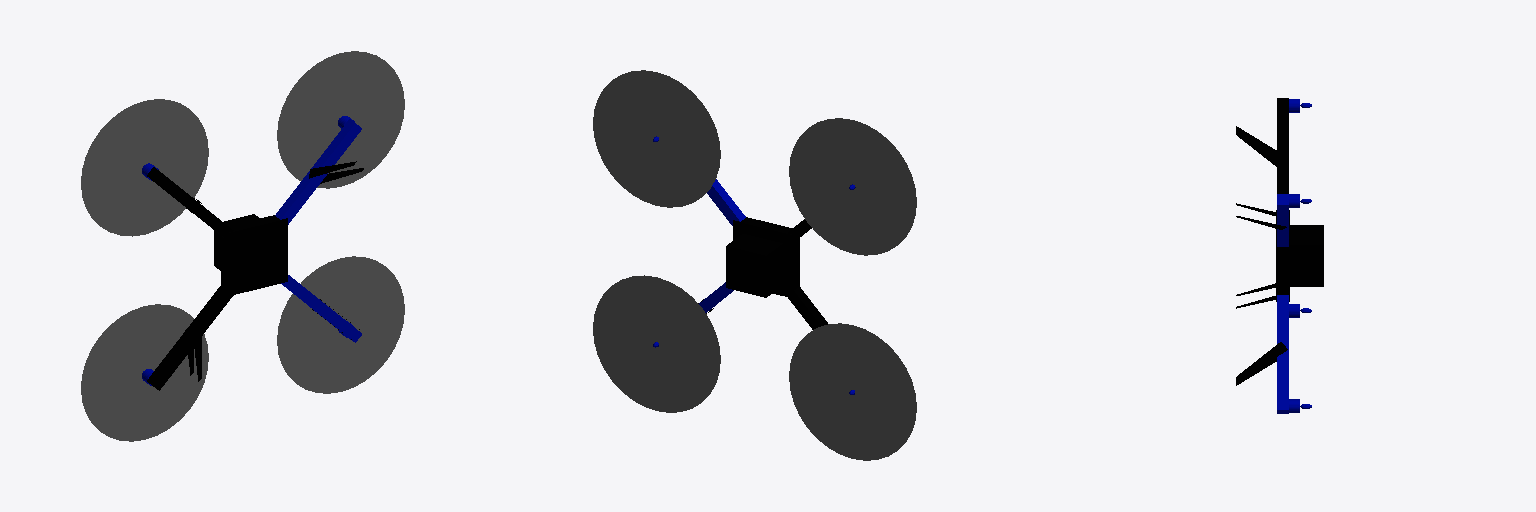
Rendered from 3dr_arducopter_quad_x.obj.
3 views of the same model, side by side, from view 1: azimuth 30°, elevation 25°; view 2: azimuth 150°, elevation 25°; view 3: azimuth 270°, elevation 25° (orthographic).
Visible parts, largest first — view 1: Prop.003_Circle.000_Gray_Plastic, Prop.001_Circle.002_Gray_Plastic, Prop.004_Circle.000_Gray_Plastic, Prop.002_Circle.002_Gray_Plastic, Base_Cube_Textolite, Arm.003_Cube.002_Black_Metal, Arm_Cube.004_Blue_Metal, Arm.002_Cube.002_Black_Metal, Arm.001_Cube.004_Blue_Metal, Leg.002_Plane.001_Textolite, Leg.004_Plane.000_Textolite; view 2: Prop.004_Circle.000_Gray_Plastic, Prop.003_Circle.000_Gray_Plastic, Prop.001_Circle.002_Gray_Plastic, Prop.002_Circle.002_Gray_Plastic, Body_Cube.001_Textolite, Base_Cube_Textolite, Arm_Cube.004_Blue_Metal, Arm.003_Cube.002_Black_Metal; view 3: Body_Cube.001_Textolite, Arm.001_Cube.004_Blue_Metal, Arm.002_Cube.002_Black_Metal, Base_Cube_Textolite, Leg.001_Plane.001_Textolite, Leg.003_Plane.000_Textolite, Arm_Cube.004_Blue_Metal.
Part boxes in pixels (left/top/right/bottom): Prop.003_Circle.000_Gray_Plastic: left=81, top=99, right=208, bottom=236; Prop.001_Circle.002_Gray_Plastic: left=277, top=256, right=404, bottom=393; Prop.004_Circle.000_Gray_Plastic: left=81, top=304, right=208, bottom=441; Prop.002_Circle.002_Gray_Plastic: left=277, top=51, right=404, bottom=188; Base_Cube_Textolite: left=221, top=215, right=287, bottom=295; Arm.003_Cube.002_Black_Metal: left=147, top=284, right=233, bottom=390; Arm_Cube.004_Blue_Metal: left=275, top=119, right=361, bottom=224; Arm.002_Cube.002_Black_Metal: left=147, top=167, right=233, bottom=239; Arm.001_Cube.004_Blue_Metal: left=281, top=275, right=361, bottom=342; Leg.002_Plane.001_Textolite: left=309, top=161, right=363, bottom=183; Leg.004_Plane.000_Textolite: left=185, top=327, right=201, bottom=381; Prop.004_Circle.000_Gray_Plastic: left=789, top=323, right=916, bottom=460; Prop.003_Circle.000_Gray_Plastic: left=789, top=118, right=916, bottom=255; Prop.001_Circle.002_Gray_Plastic: left=593, top=275, right=720, bottom=412; Prop.002_Circle.002_Gray_Plastic: left=593, top=70, right=720, bottom=207; Body_Cube.001_Textolite: left=726, top=234, right=782, bottom=297; Base_Cube_Textolite: left=733, top=217, right=799, bottom=298; Arm_Cube.004_Blue_Metal: left=707, top=179, right=745, bottom=225; Arm.003_Cube.002_Black_Metal: left=788, top=287, right=827, bottom=329; Body_Cube.001_Textolite: left=1290, top=225, right=1323, bottom=286; Arm.001_Cube.004_Blue_Metal: left=1277, top=295, right=1288, bottom=413; Arm.002_Cube.002_Black_Metal: left=1277, top=98, right=1288, bottom=193; Base_Cube_Textolite: left=1276, top=210, right=1289, bottom=301; Leg.001_Plane.001_Textolite: left=1236, top=342, right=1287, bottom=385; Leg.003_Plane.000_Textolite: left=1236, top=126, right=1287, bottom=166; Arm_Cube.004_Blue_Metal: left=1277, top=194, right=1288, bottom=246.
Bounding box in the file's own units: 0.6429 × 0.6429 × 0.1497.